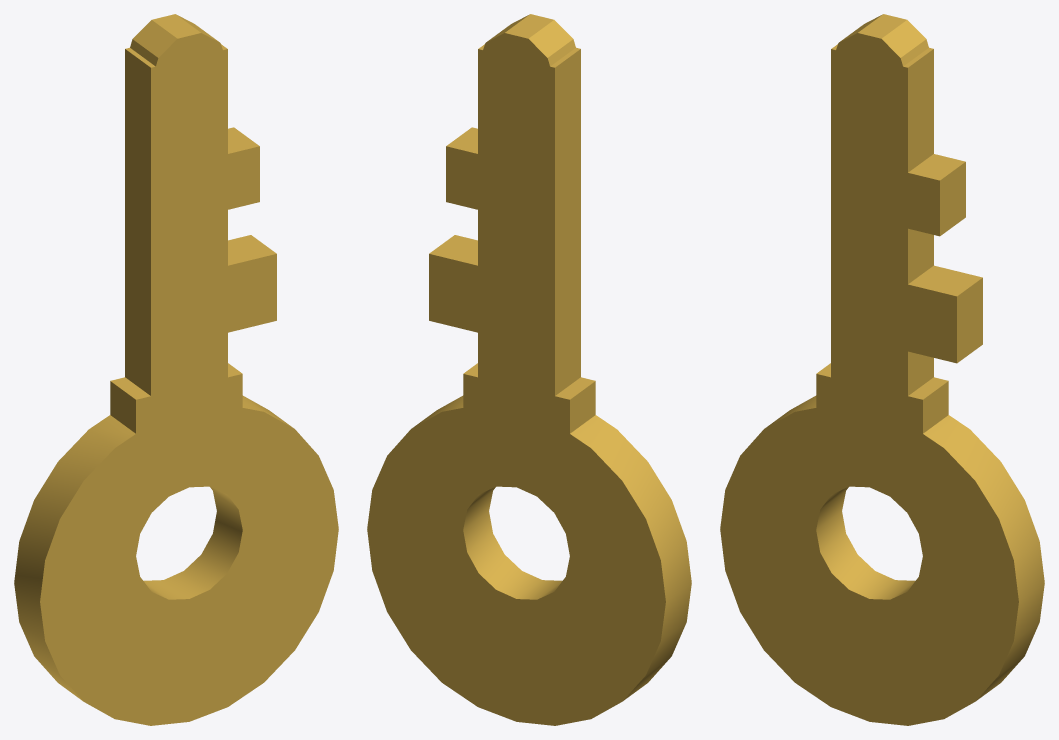
The model's file is key.glb.
The picture shows the model from 3 angles, left to right: view 1: azimuth 30°, elevation 25°; view 2: azimuth 150°, elevation 25°; view 3: azimuth 330°, elevation 25°; orthographic projection.
Visible parts, largest first — view 1: key; view 2: key; view 3: key.
Part boxes in pixels (left/top/right/bottom): key: left=14, top=14, right=338, bottom=725; key: left=367, top=14, right=691, bottom=725; key: left=720, top=14, right=1044, bottom=725.
Bounding box in the file's own units: 0.0274 × 0.06 × 0.0041.
